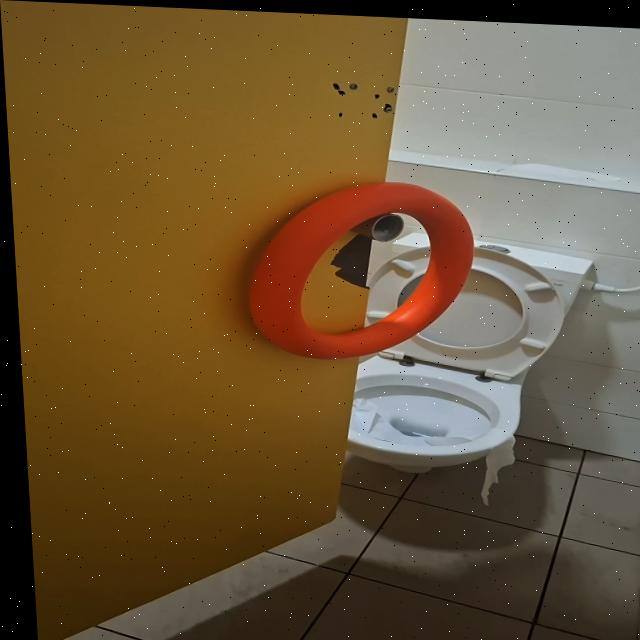note: (236, 171, 480, 363)
